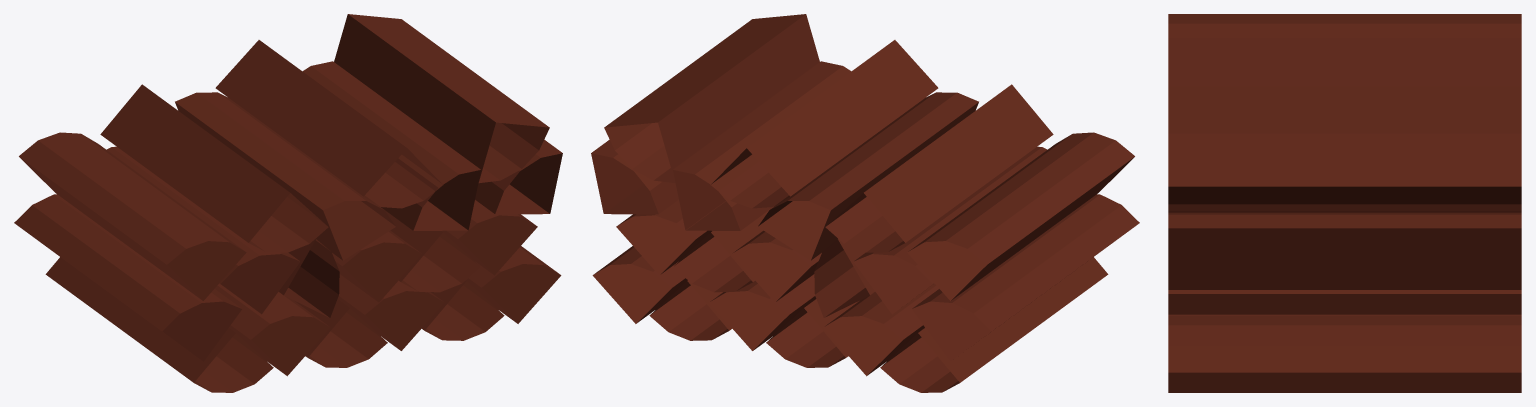
Rendered from prop_firewood.glb.
The picture shows the model from 3 angles, left to right: view 1: azimuth 30°, elevation 25°; view 2: azimuth 150°, elevation 25°; view 3: azimuth 270°, elevation 25°; orthographic projection. The views are drawn at different scales.
Parts seen in each view (by area): view 1: Props with out snow_Firewood_0; view 2: Props with out snow_Firewood_0; view 3: Props with out snow_Firewood_0.
Boxes of the visible parts, box(x1,y1,x2,y2) form: Props with out snow_Firewood_0: box(14, 14, 562, 392); Props with out snow_Firewood_0: box(591, 14, 1139, 392); Props with out snow_Firewood_0: box(1168, 14, 1521, 392).
Bounding box in the file's own units: 3.16 × 1.59 × 2.03.
